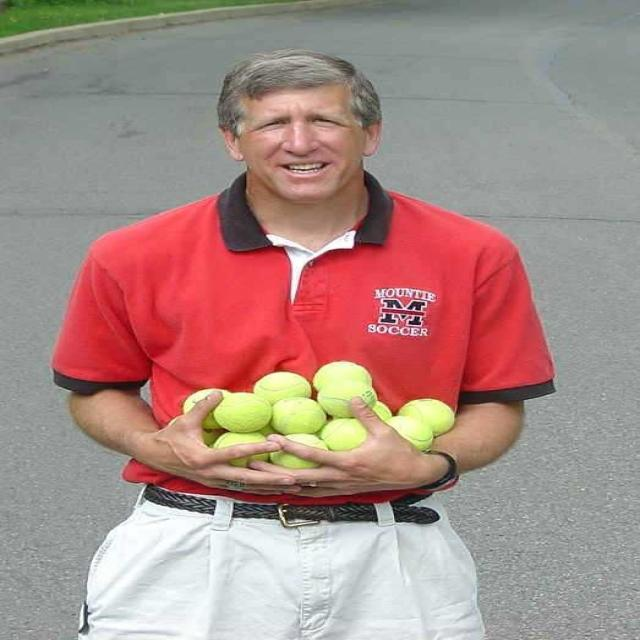Tennis_Ball: (251, 369, 309, 403), (221, 392, 270, 430), (266, 435, 322, 467), (319, 415, 373, 448), (273, 398, 325, 431), (213, 433, 270, 463), (181, 389, 221, 431), (406, 396, 454, 430), (389, 415, 436, 449), (315, 364, 370, 390)
